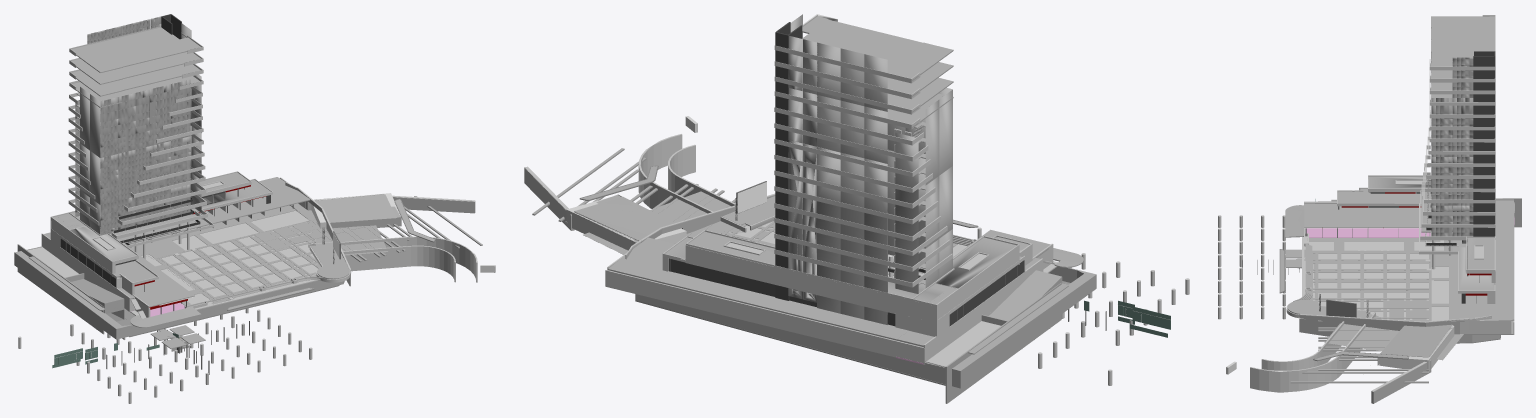
Rendered from plaza-interior.glb.
3 views of the same model, side by side, from view 1: azimuth 30°, elevation 25°; view 2: azimuth 150°, elevation 25°; view 3: azimuth 270°, elevation 25° (orthographic). The views are drawn at different scales.
Parts seen in each view (by area): view 1: INTERIOR__01_-_Default, INTERIOR__Material_1541173878, INTERIOR__tiles, INTERIOR__Material_1541173809, INTERIOR__22_-_Default, INTERIOR__tiles2, INTERIOR__Material_1541173983, INTERIOR__maqloob, INTERIOR__Material_1541173845, INTERIOR__01_-_Defaultd, INTERIOR__Material_4, INTERIOR__Material_1541173997 (+6 smaller); view 2: INTERIOR__01_-_Default, INTERIOR__Material_1541173878, INTERIOR__tiles, INTERIOR__Material_1541173809, INTERIOR__bol5, INTERIOR__glass, INTERIOR__tiles2, INTERIOR__22_-_Default, INTERIOR__Material_1541173845, INTERIOR___nomat, INTERIOR__01_-_Defaultd, INTERIOR__maqloob (+3 smaller); view 3: INTERIOR__01_-_Default, INTERIOR__tiles, INTERIOR__Material_1541173809, INTERIOR__Material_1541173878, INTERIOR__22_-_Default, INTERIOR__bol5, INTERIOR__maqloob, INTERIOR__tiles2, INTERIOR__Material_1541173983, INTERIOR___nomat, INTERIOR__parquewt, INTERIOR__Material_4 (+3 smaller).
Boxes of the visible parts, x1,y1,x2,y2 form: INTERIOR__01_-_Default: [18, 26, 477, 403]; INTERIOR__Material_1541173878: [75, 16, 201, 235]; INTERIOR__tiles: [44, 27, 349, 347]; INTERIOR__Material_1541173809: [14, 199, 434, 339]; INTERIOR__22_-_Default: [159, 196, 482, 299]; INTERIOR__tiles2: [307, 194, 401, 228]; INTERIOR__Material_1541173983: [130, 220, 363, 348]; INTERIOR__maqloob: [305, 195, 475, 286]; INTERIOR__Material_1541173845: [28, 257, 124, 313]; INTERIOR__01_-_Defaultd: [27, 182, 258, 298]; INTERIOR__Material_4: [65, 188, 340, 374]; INTERIOR__Material_1541173997: [114, 198, 200, 244]; INTERIOR__01_-_Default: [524, 14, 1189, 385]; INTERIOR__Material_1541173878: [788, 14, 952, 324]; INTERIOR__tiles: [608, 16, 1055, 346]; INTERIOR__Material_1541173809: [581, 166, 1096, 403]; INTERIOR__bol5: [775, 22, 802, 300]; INTERIOR__glass: [668, 258, 1024, 326]; INTERIOR__tiles2: [574, 194, 683, 242]; INTERIOR__22_-_Default: [532, 148, 924, 271]; INTERIOR__Material_1541173845: [973, 270, 1068, 354]; INTERIOR___nomat: [566, 116, 892, 277]; INTERIOR__01_-_Defaultd: [726, 242, 1000, 367]; INTERIOR__maqloob: [524, 168, 775, 242]; INTERIOR__01_-_Default: [1218, 15, 1514, 392]; INTERIOR__tiles: [1287, 16, 1514, 322]; INTERIOR__Material_1541173809: [1280, 198, 1521, 360]; INTERIOR__Material_1541173878: [1431, 53, 1473, 236]; INTERIOR__22_-_Default: [1290, 252, 1428, 383]; INTERIOR__bol5: [1461, 51, 1495, 303]; INTERIOR__maqloob: [1299, 315, 1459, 403]; INTERIOR__tiles2: [1377, 324, 1453, 365]; INTERIOR__Material_1541173983: [1285, 205, 1428, 342]; INTERIOR___nomat: [1226, 227, 1454, 374]; INTERIOR__parquewt: [1306, 217, 1514, 237]; INTERIOR__Material_4: [1242, 206, 1479, 317].
Bounding box in the file's own units: 142 × 75.57 × 79.65.
